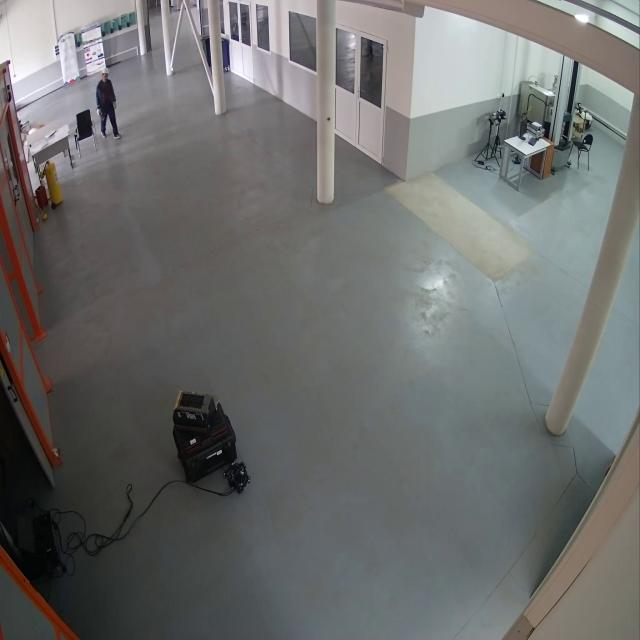Hardhat: (101, 66, 111, 77)
Person: (94, 65, 124, 142)
